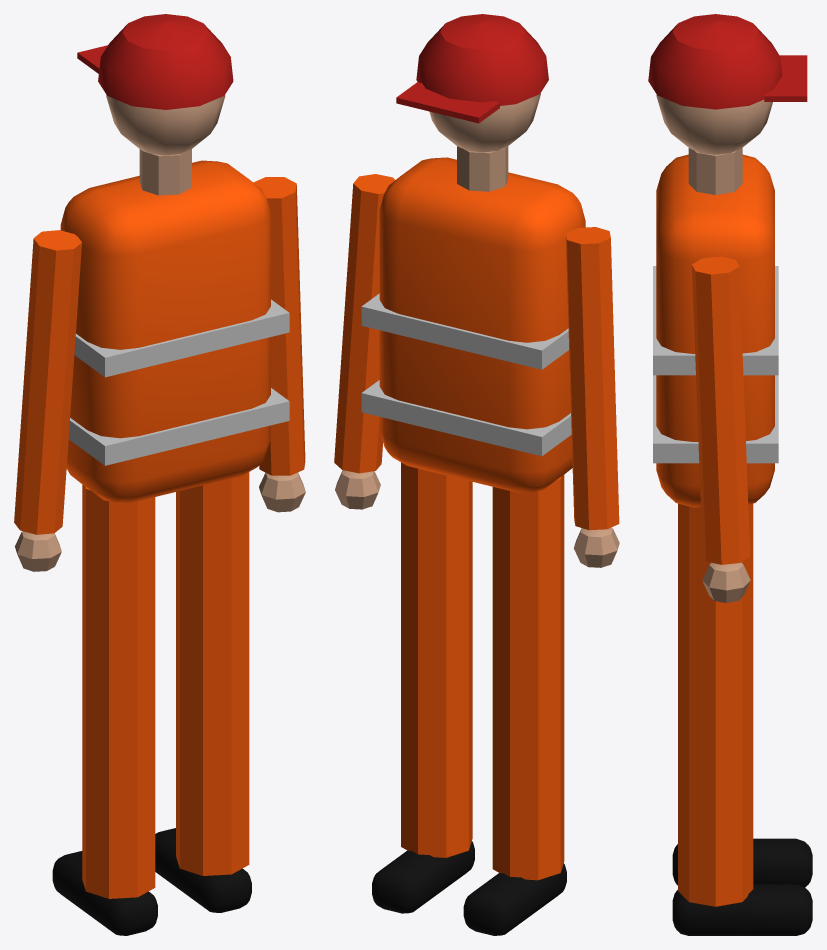
Rendered from people.crew.demolition.glb.
3 views of the same model, side by side, from view 1: azimuth 30°, elevation 25°; view 2: azimuth 150°, elevation 25°; view 3: azimuth 270°, elevation 25° (orthographic). The views are drawn at different scales.
Visible parts, largest first — view 1: main__hivis_orange, main__hazard_red, main__steel_stainless, main__skin, main__plastic_black; view 2: main__hivis_orange, main__hazard_red, main__steel_stainless, main__plastic_black, main__skin; view 3: main__hivis_orange, main__hazard_red, main__plastic_black, main__skin, main__steel_stainless.
Part boxes in pixels (x1,y1,x2,y2): main__hivis_orange: [14, 160, 305, 898]; main__hazard_red: [77, 14, 233, 109]; main__steel_stainless: [68, 299, 289, 465]; main__skin: [15, 95, 305, 571]; main__plastic_black: [52, 828, 251, 935]; main__hivis_orange: [334, 157, 619, 880]; main__hazard_red: [396, 14, 548, 123]; main__steel_stainless: [361, 293, 571, 456]; main__plastic_black: [372, 841, 566, 935]; main__skin: [335, 93, 619, 567]; main__hivis_orange: [656, 154, 774, 906]; main__hazard_red: [648, 14, 807, 109]; main__plastic_black: [672, 838, 812, 935]; main__skin: [656, 95, 772, 602]; main__steel_stainless: [653, 266, 778, 463].
Size of the model in its own units: 0.61 by 1.81 by 0.305.
